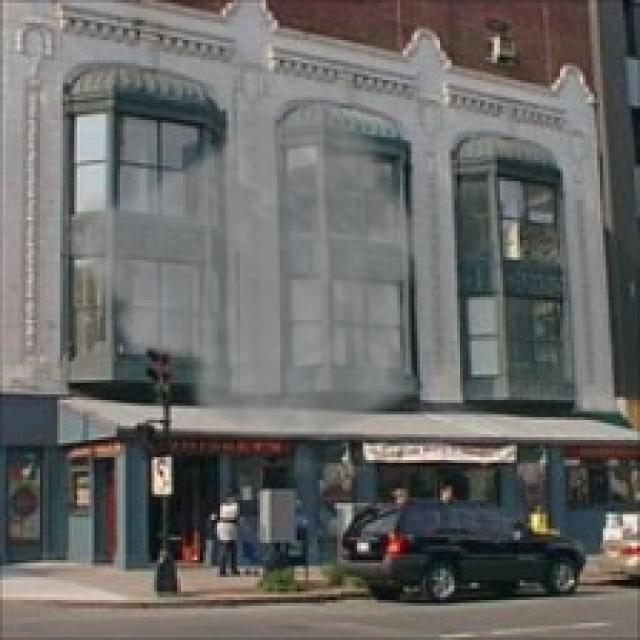Smoke: (60, 94, 426, 443)
